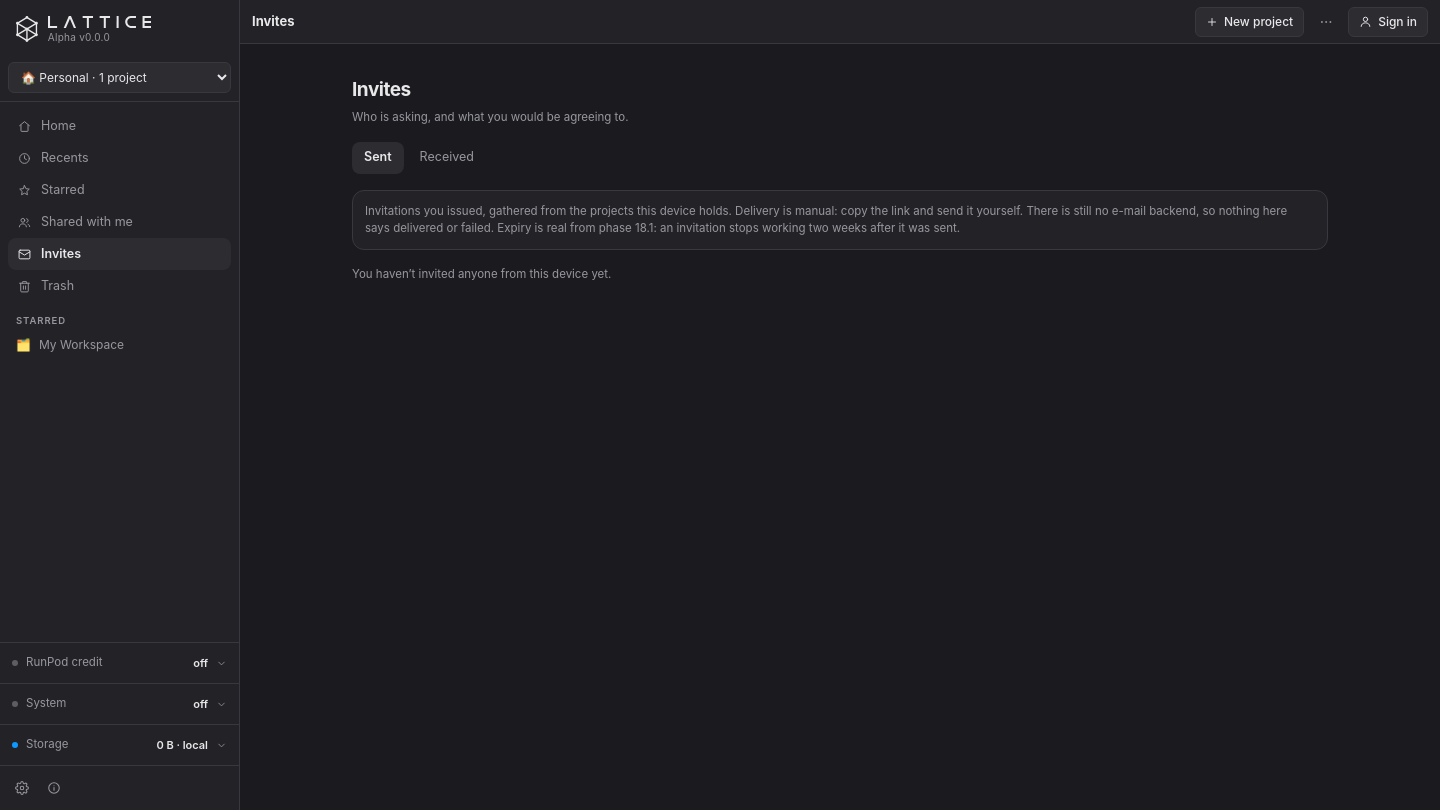
Test: Invites › presents Received as unavailable, naming the constraint
Click the tab "Received": (447, 158) [408, 142, 486, 174]
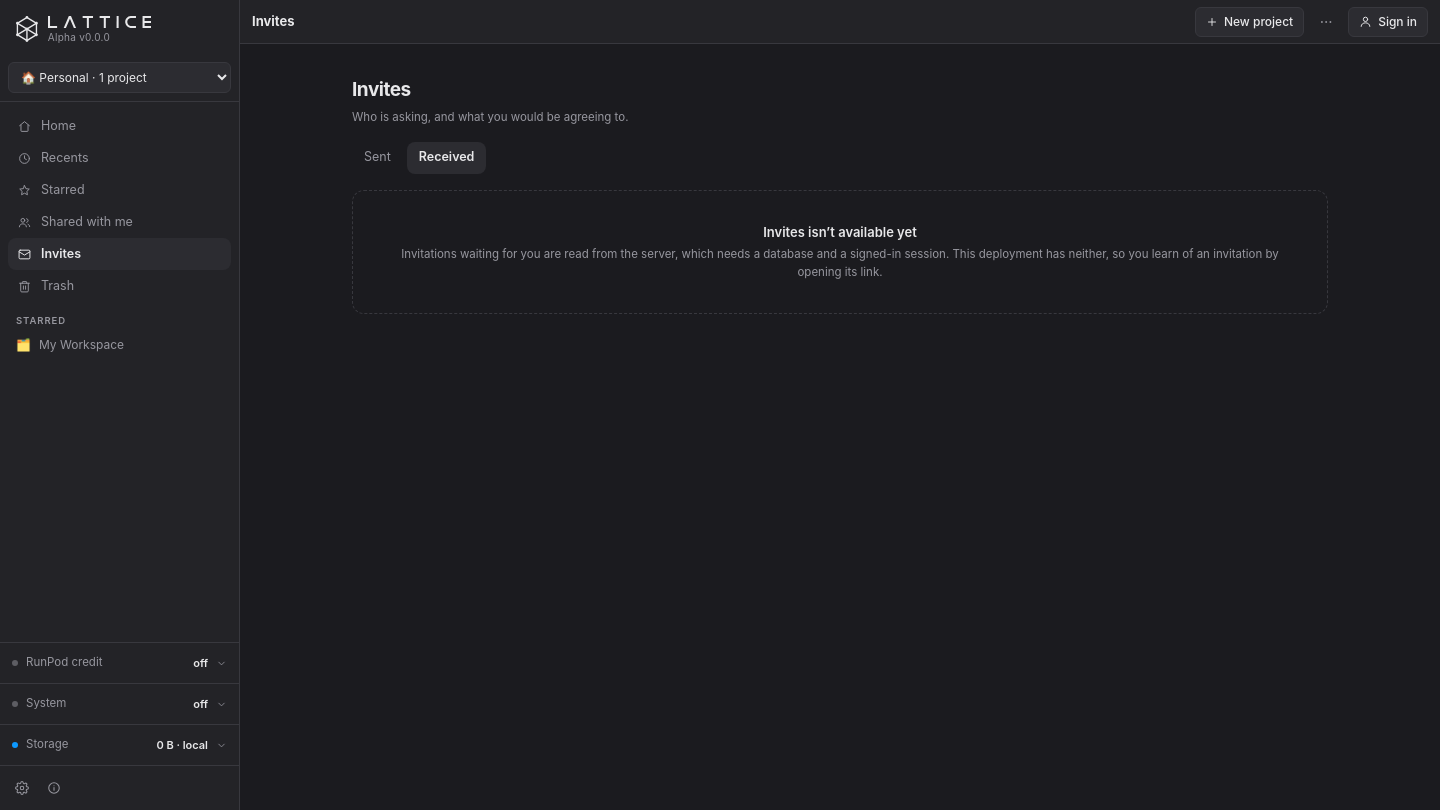
Check: the text "needs a database and a signed-in session" is shown, box [401, 247, 1279, 279]
